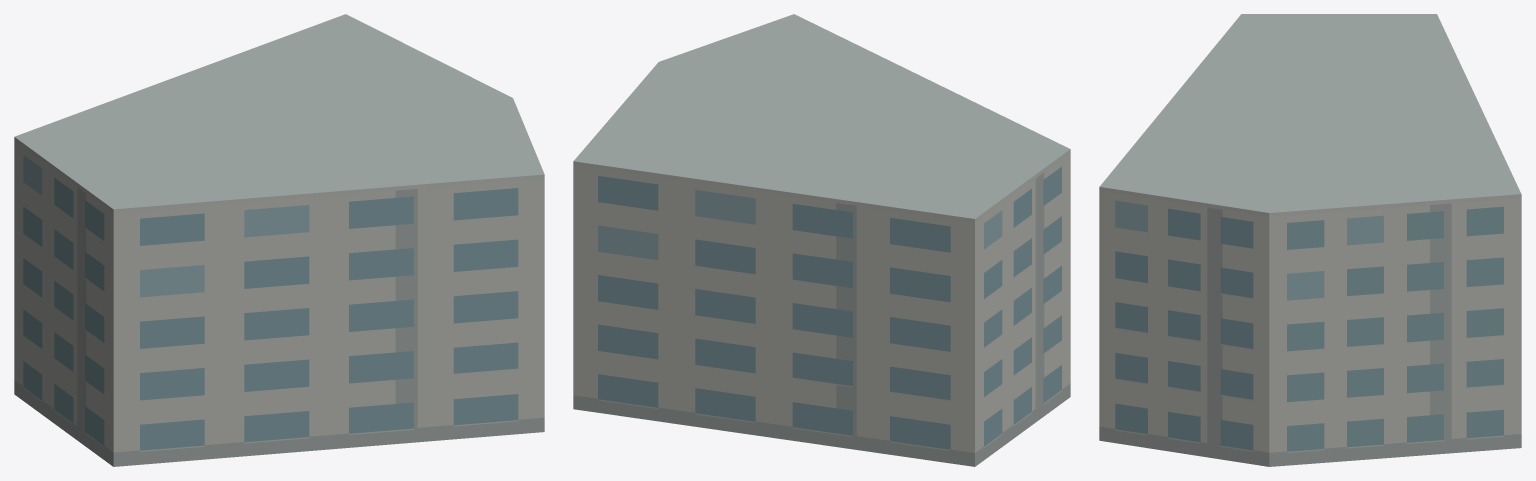
File: residential-8087ad95-d99f-4b03-9e99-dee907463c98.glb
3 views of the same model, side by side, from view 1: azimuth 30°, elevation 25°; view 2: azimuth 150°, elevation 25°; view 3: azimuth 270°, elevation 25° (orthographic). The views are drawn at different scales.
Parts seen in each view (by area): view 1: residential-8087ad95-d99f-4b03-9e99-dee907463c98.tmp; view 2: residential-8087ad95-d99f-4b03-9e99-dee907463c98.tmp; view 3: residential-8087ad95-d99f-4b03-9e99-dee907463c98.tmp.
Part boxes in pixels (bbox=[...]): residential-8087ad95-d99f-4b03-9e99-dee907463c98.tmp: bbox=[14, 14, 544, 466]; residential-8087ad95-d99f-4b03-9e99-dee907463c98.tmp: bbox=[573, 14, 1070, 466]; residential-8087ad95-d99f-4b03-9e99-dee907463c98.tmp: bbox=[1099, 14, 1521, 466].
Bounding box in the file's own units: 25.66 × 15.25 × 22.99.
